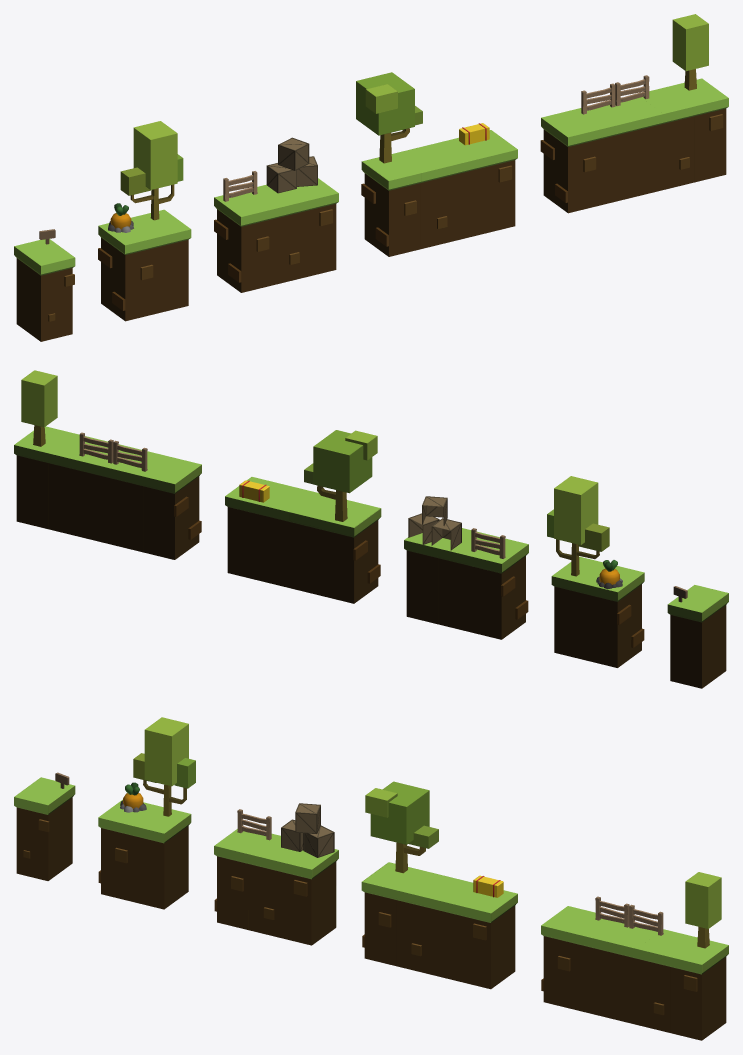
File: Bro_Project_Asset (2).fbx
3 renders of one model, top to bottom at view 1: azimuth 30°, elevation 25°; view 2: azimuth 150°, elevation 25°; view 3: azimuth 330°, elevation 25°, orthographic.
Parts seen in each view (by area): view 1: 5_B, 4_B, Object044, 2_B, 1_B; view 2: 5_B, 4_B, Object044, 2_B, 1_B; view 3: 5_B, 4_B, Object044, 2_B, 1_B.
Part boxes in pixels (x1,y1,x2,y2): 5_B: [540, 14, 728, 213]; 4_B: [356, 72, 517, 256]; Object044: [214, 137, 338, 292]; 2_B: [98, 121, 191, 321]; 1_B: [14, 229, 75, 341]; 5_B: [14, 370, 201, 559]; 4_B: [225, 430, 381, 603]; Object044: [404, 496, 528, 639]; 2_B: [547, 476, 644, 667]; 1_B: [667, 585, 728, 688]; 5_B: [541, 872, 728, 1040]; 4_B: [361, 781, 517, 989]; Object044: [214, 803, 338, 945]; 2_B: [98, 717, 195, 909]; 1_B: [14, 772, 75, 880].
Size of the model in its own units: 653 by 151 by 53.01.
Materials: 2 (2 with a texture image).
